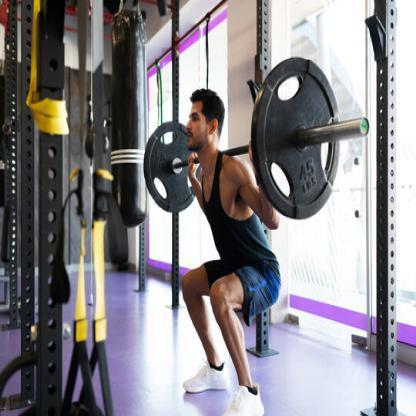barbell: (142, 55, 372, 222)
